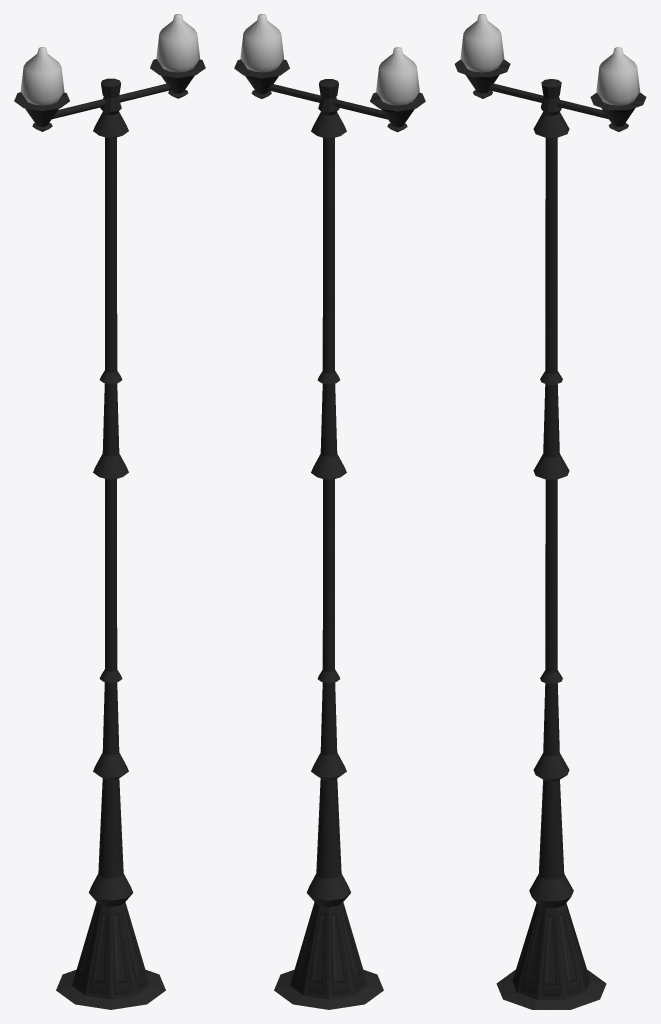
File: D_lamppost_2x_park_long.FBX
3 renders of one model, left to right at view 1: azimuth 30°, elevation 25°; view 2: azimuth 150°, elevation 25°; view 3: azimuth 330°, elevation 25°, orthographic.
Visible parts, largest first — view 1: Object167; view 2: Object167; view 3: Object167.
Boxes of the visible parts, x1,y1,x2,y2 form: Object167: (14, 14, 205, 1009); Object167: (234, 14, 425, 1009); Object167: (454, 14, 646, 1009).
Size of the model in its own units: 3.53 by 1.83 by 17.56.
